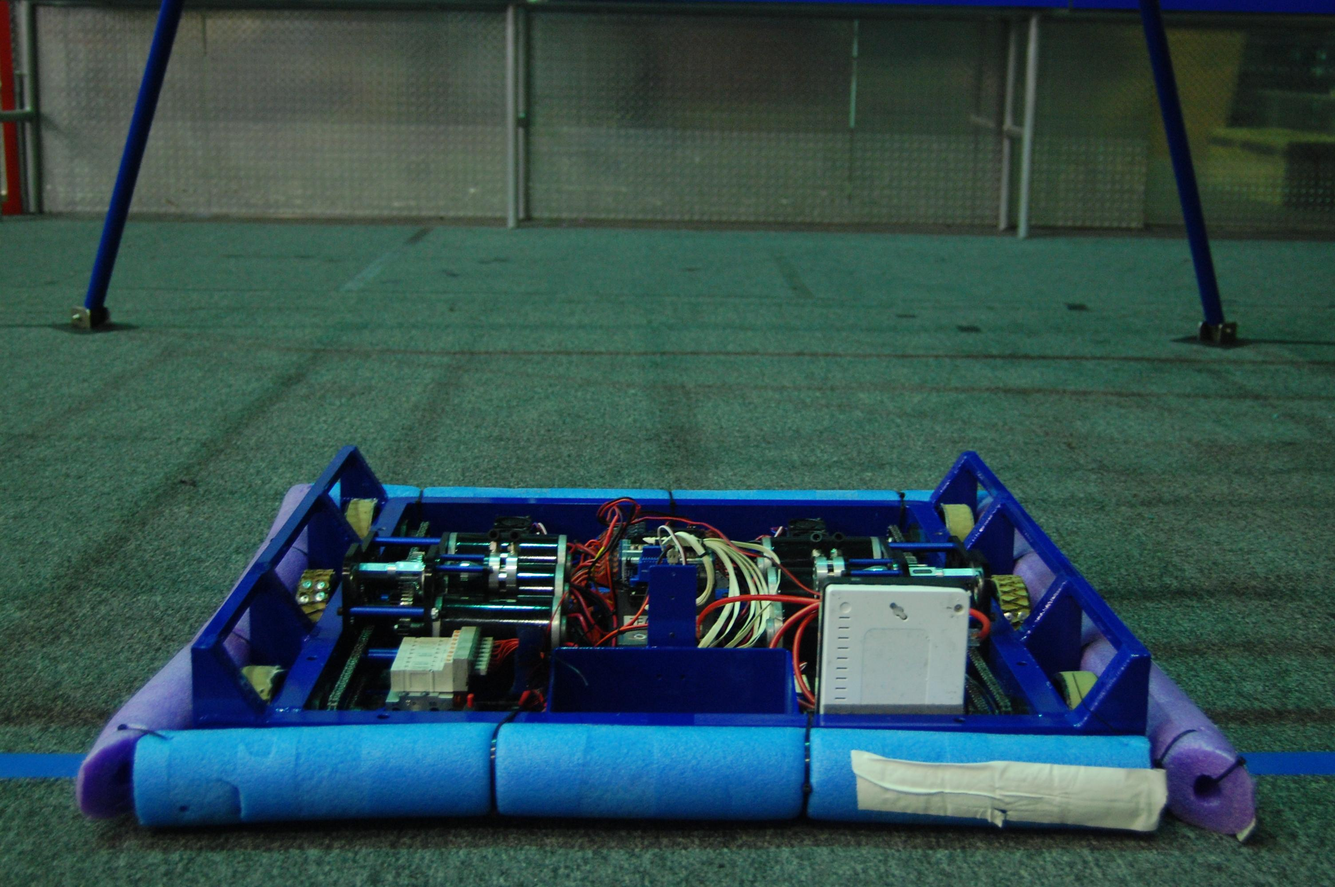robot: (61, 430, 1278, 863)
